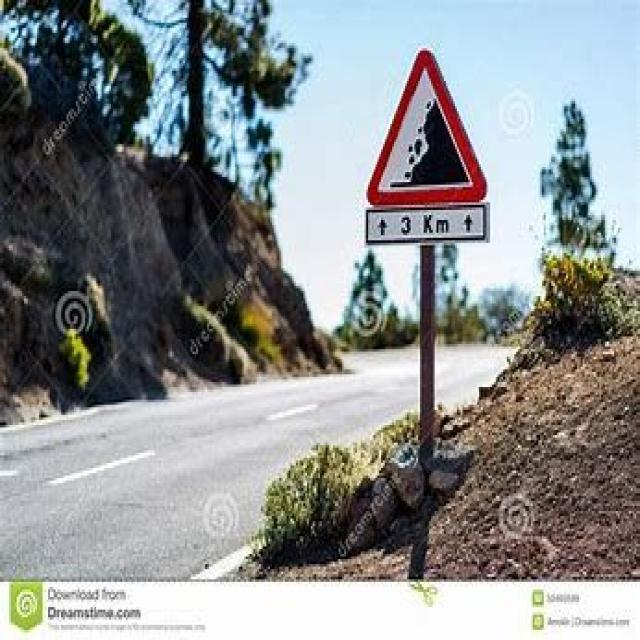falling rocks: (364, 46, 491, 205)
